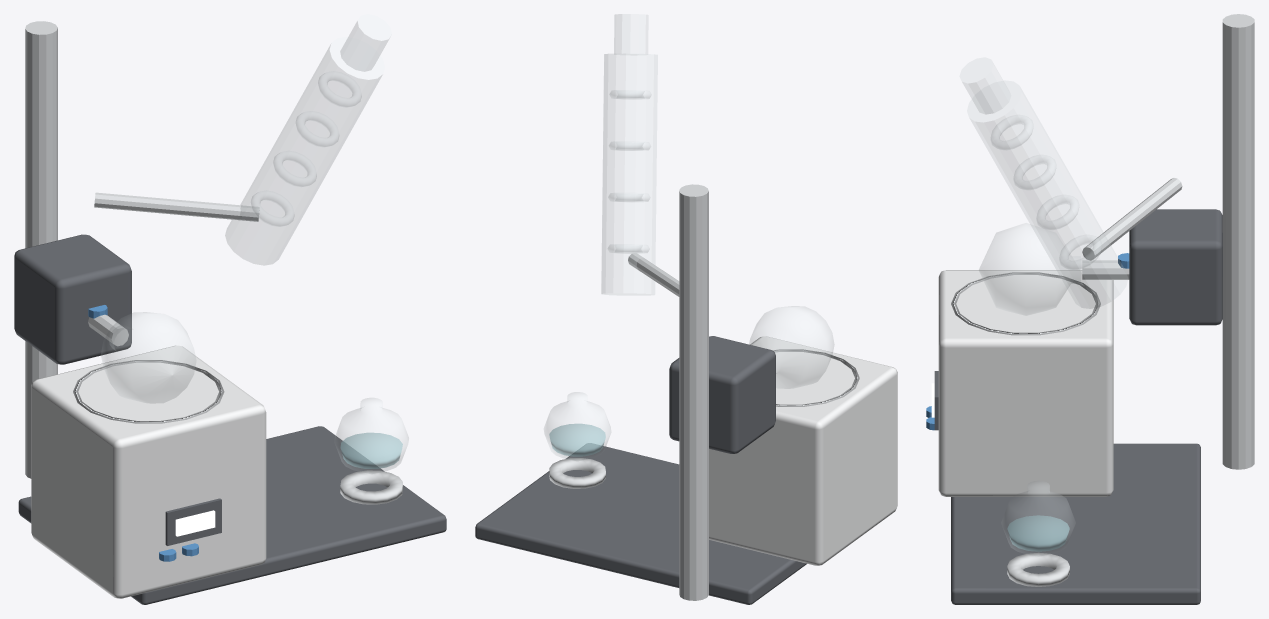
Rendered from rotary-evaporator.glb.
3 renders of one model, left to right at view 1: azimuth 30°, elevation 25°; view 2: azimuth 150°, elevation 25°; view 3: azimuth 270°, elevation 25°, orthographic. The views are drawn at different scales.
Parts seen in each view (by area): view 1: rotary-evaporator, flask-drive/glass, flask-drive/steel; view 2: rotary-evaporator, flask-drive/glass; view 3: rotary-evaporator, flask-drive/glass, flask-drive/steel.
Part boxes in pixels (x1,y1,x2,y2): rotary-evaporator: [14, 14, 446, 604]; flask-drive/glass: [101, 312, 195, 403]; flask-drive/steel: [88, 314, 128, 346]; rotary-evaporator: [475, 14, 897, 604]; flask-drive/glass: [749, 306, 834, 388]; rotary-evaporator: [926, 14, 1254, 604]; flask-drive/glass: [979, 223, 1080, 315]; flask-drive/steel: [1082, 260, 1129, 279].
Size of the model in its own units: 0.62 by 0.9082 by 0.5247.
